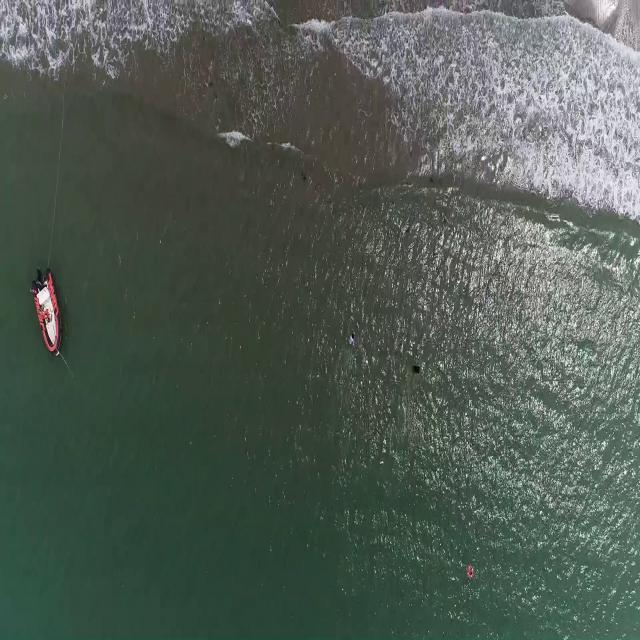boat: (32, 268, 62, 357)
life_buoy: (466, 563, 475, 578)
person: (348, 326, 360, 346), (411, 358, 422, 377)
